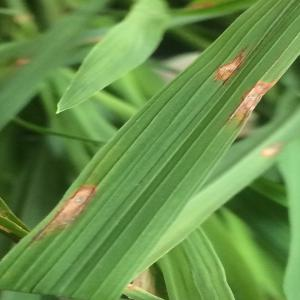Rice_Blast: (31, 170, 115, 244), (220, 68, 281, 129), (206, 43, 258, 87)
